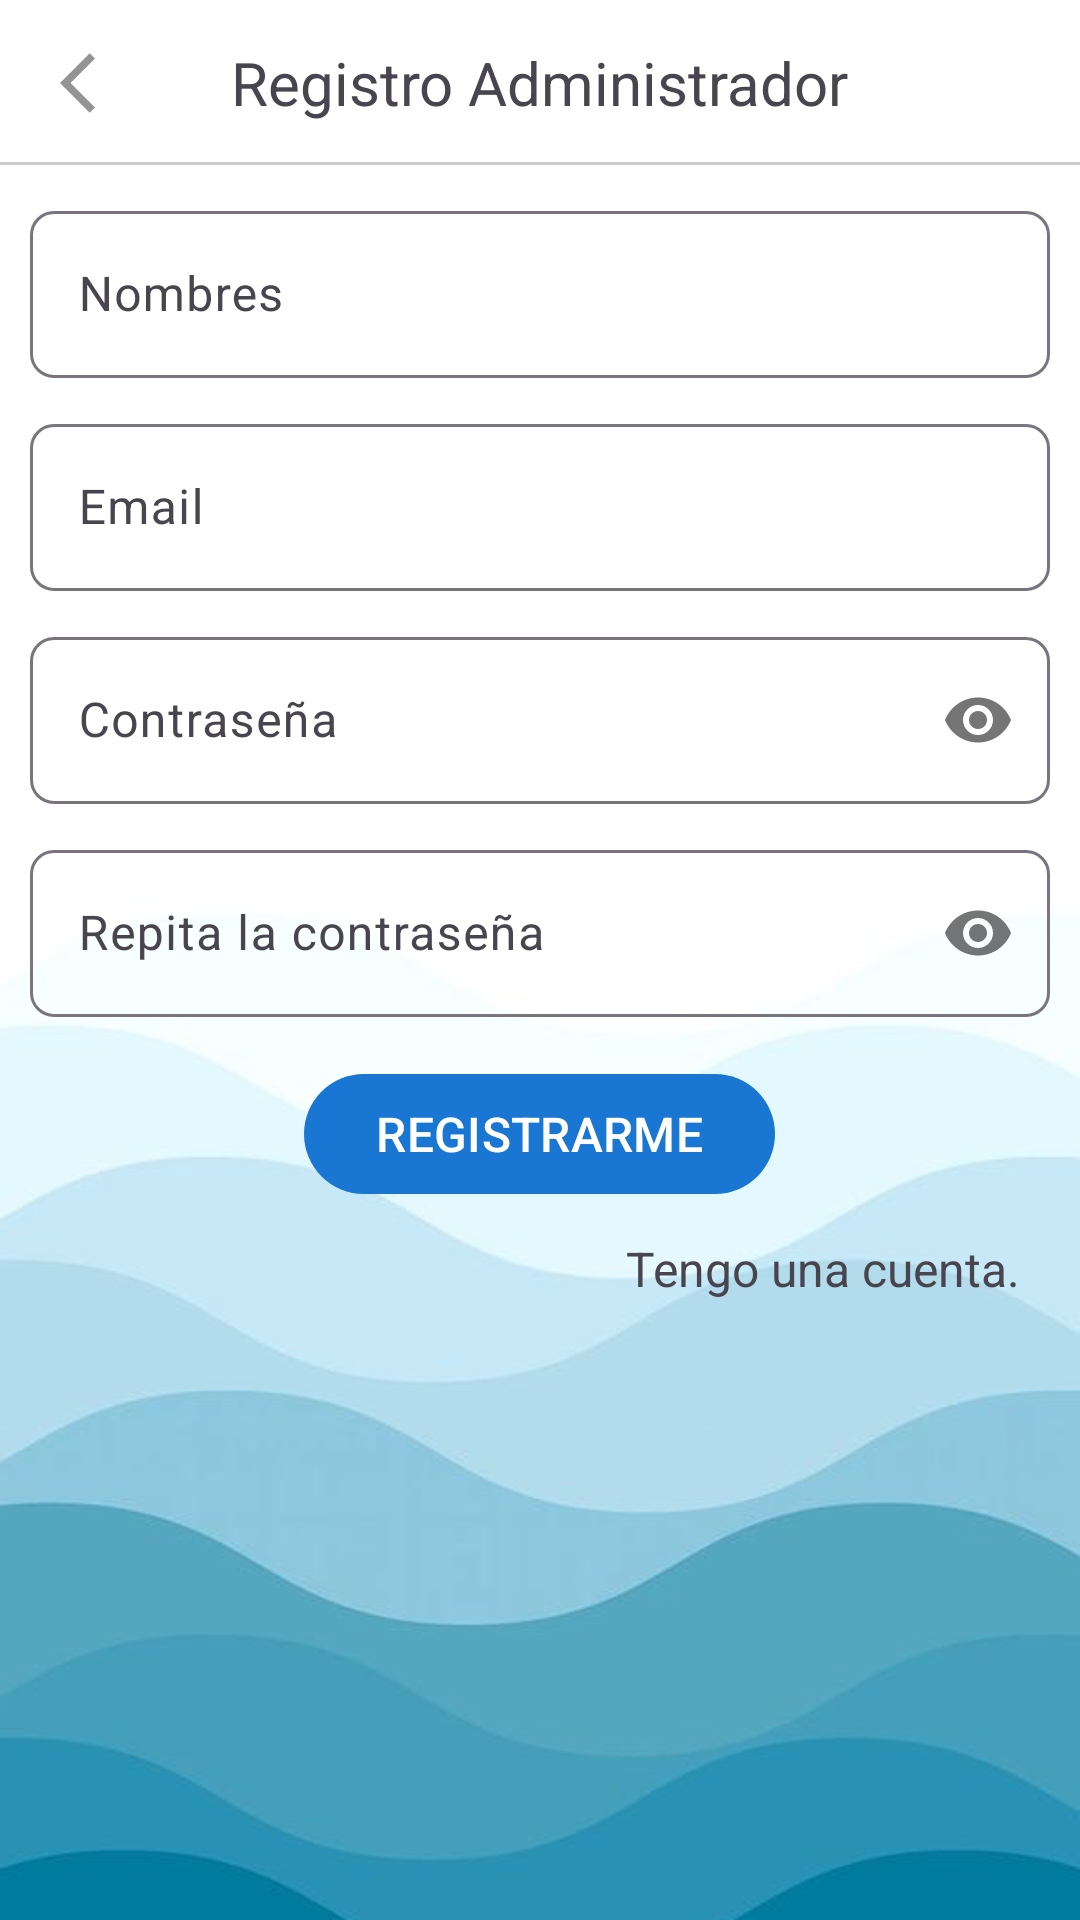

Icon click points for this 1080px x 1920px phone screenshot, format point (x, y):
regresar: point (77, 83)
